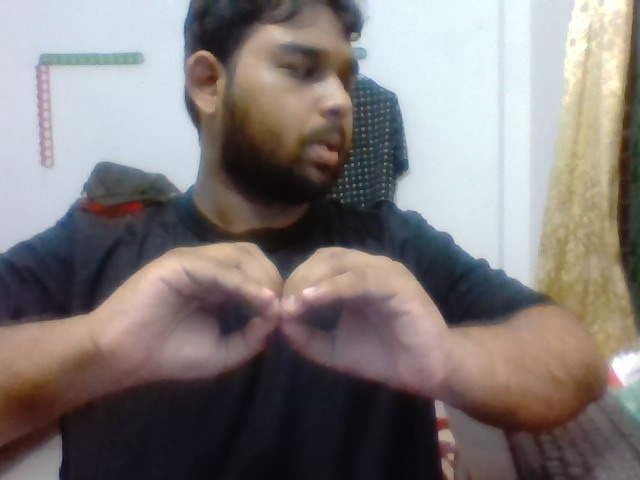B: (108, 232, 458, 413)
